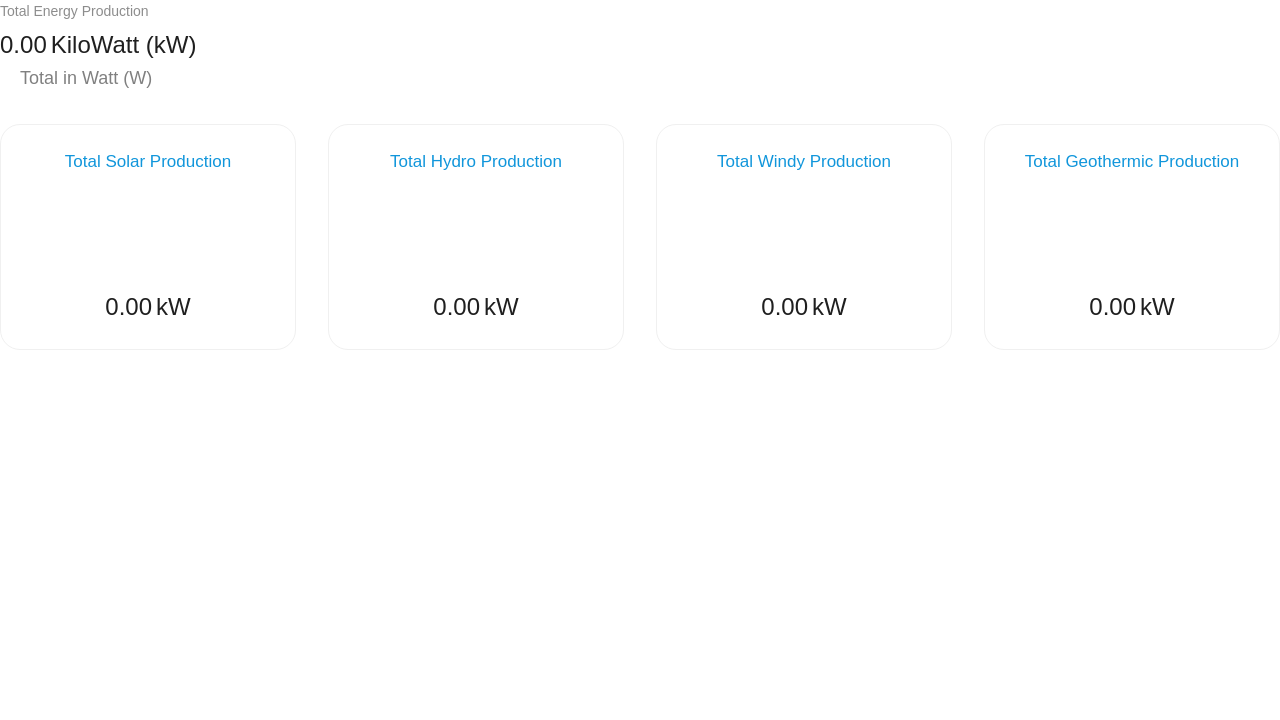
Test: RenewableCards › updates the filter state when clicking on a card
The width and height of the screenshot is (1280, 720).
Click the text "Total Solar Production": (148, 162) 65,152 -> 231,171
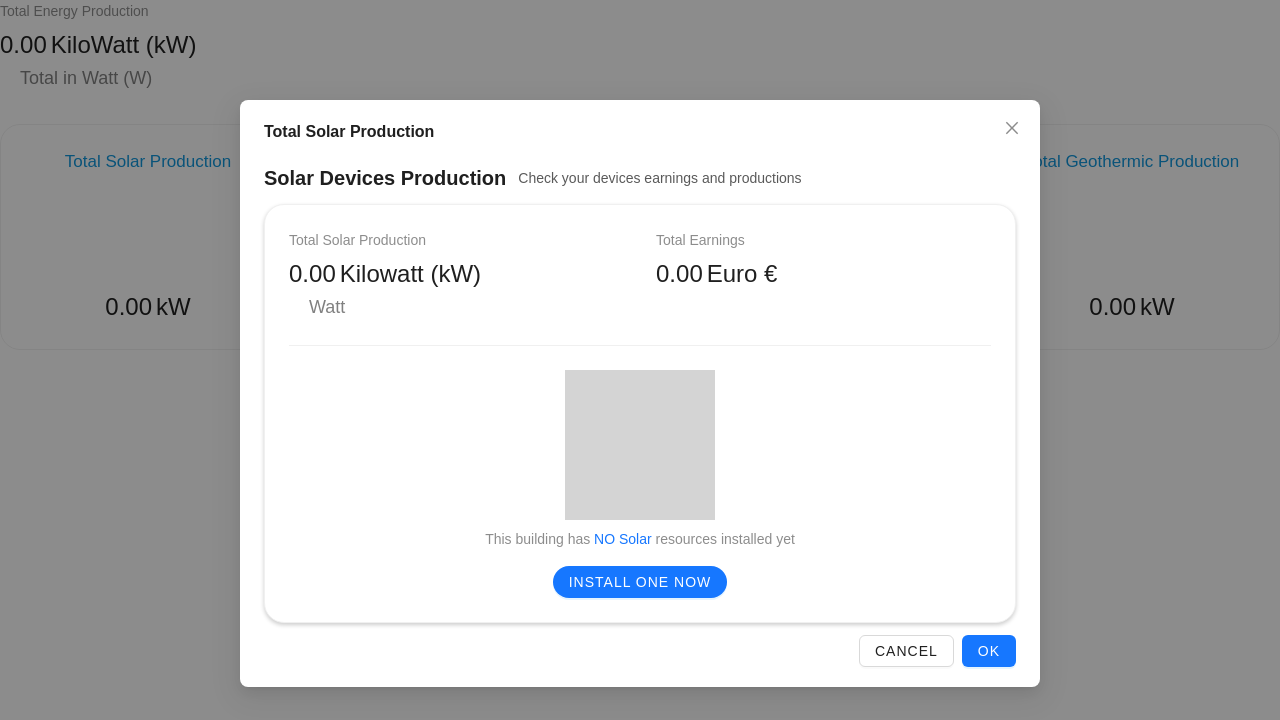
expect the text "Solar Devices Production" is shown: met, box 264,162 -> 506,194
